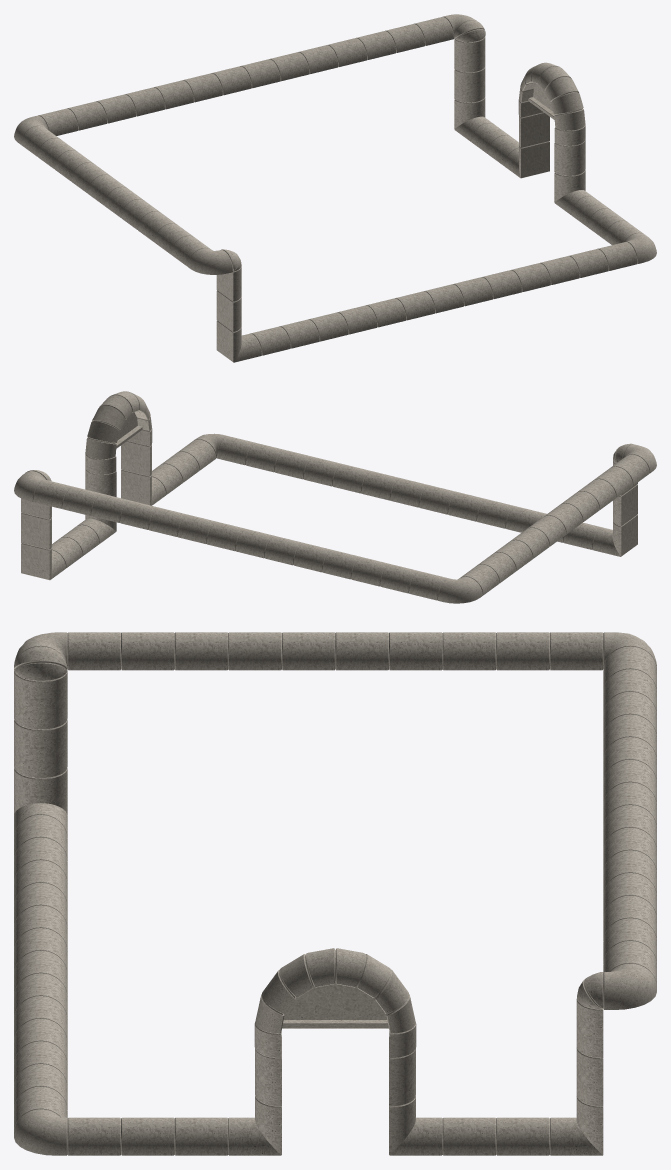
3 renders of one model, top to bottom at view 1: azimuth 30°, elevation 25°; view 2: azimuth 150°, elevation 25°; view 3: azimuth 270°, elevation 25°, orthographic. The views are drawn at different scales.
Parts seen in each view (by area): view 1: textured_16398141; view 2: textured_16398141; view 3: textured_16398141.
Part boxes in pixels (<box>): textured_16398141: <box>14,14,656,362</box>; textured_16398141: <box>14,391,656,603</box>; textured_16398141: <box>14,632,656,1155</box>.
Bounding box in the file's own units: 16 × 3.99 × 12.
Materials: 1 (1 with a texture image).
